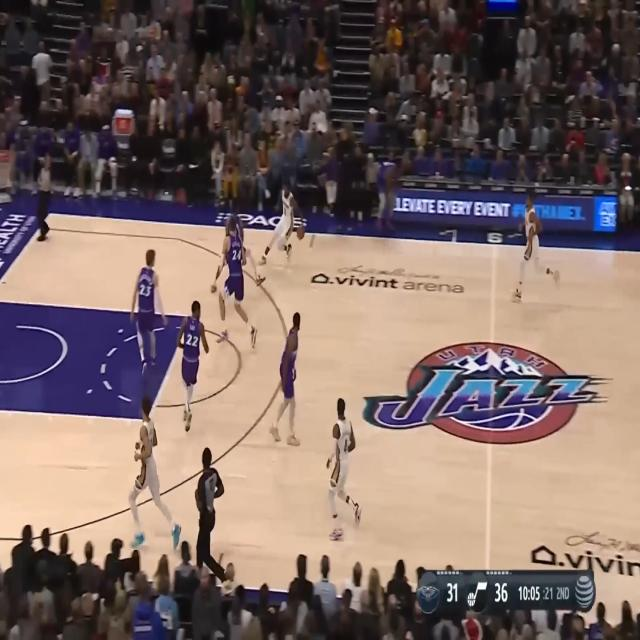Ball: (296, 225, 305, 240)
Hoop: (0, 148, 13, 190)
Overlay: (416, 568, 596, 614)
Player: (126, 396, 182, 552), (211, 218, 257, 352), (510, 191, 561, 301), (210, 198, 266, 292), (326, 396, 363, 538), (128, 248, 168, 375), (268, 309, 303, 447), (176, 300, 209, 432), (261, 179, 305, 268)
Ref: (195, 446, 228, 589), (34, 153, 54, 242)
Scoreboard: (417, 569, 572, 613)
